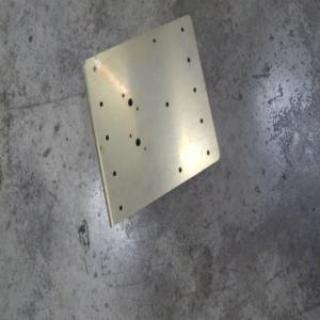MetalSheettrack_idkeyframe: (78, 11, 220, 230)
